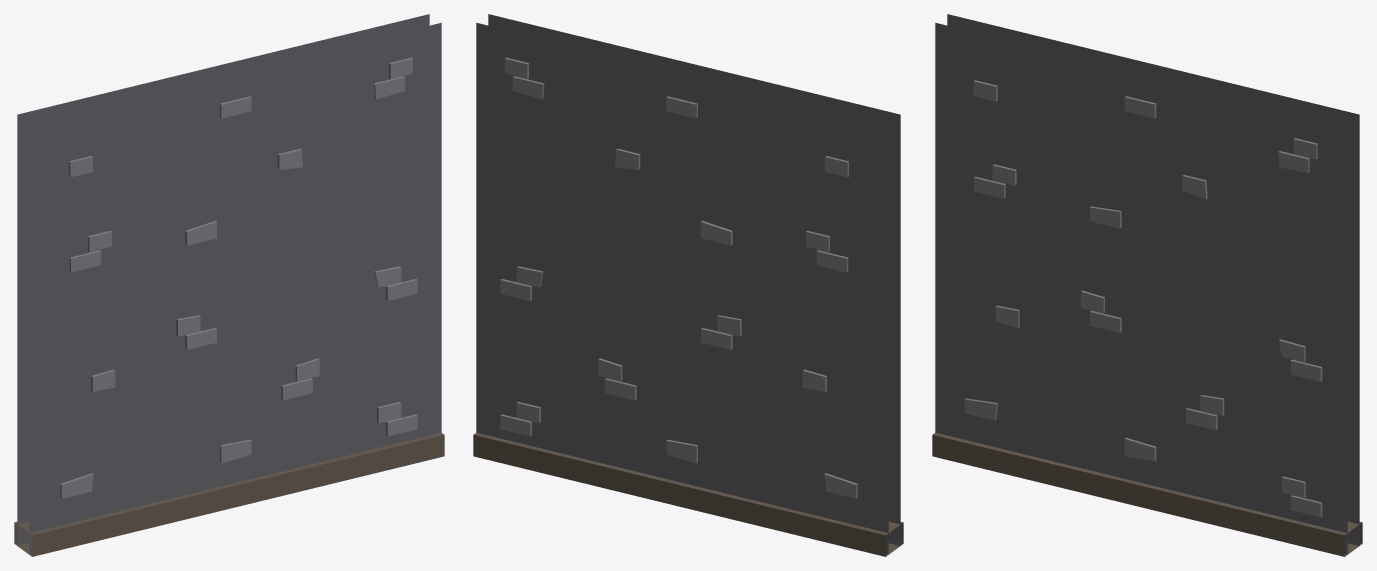
File: Wall_2B.fbx
3 renders of one model, left to right at view 1: azimuth 30°, elevation 25°; view 2: azimuth 150°, elevation 25°; view 3: azimuth 330°, elevation 25°, orthographic.
Visible parts, largest first — view 1: pCube769; view 2: pCube769; view 3: pCube769.
Boxes of the visible parts, x1,y1,x2,y2 form: pCube769: (14, 14, 444, 556); pCube769: (473, 14, 903, 556); pCube769: (932, 14, 1362, 556).
Bounding box in the file's own units: 400 × 400 × 30.
